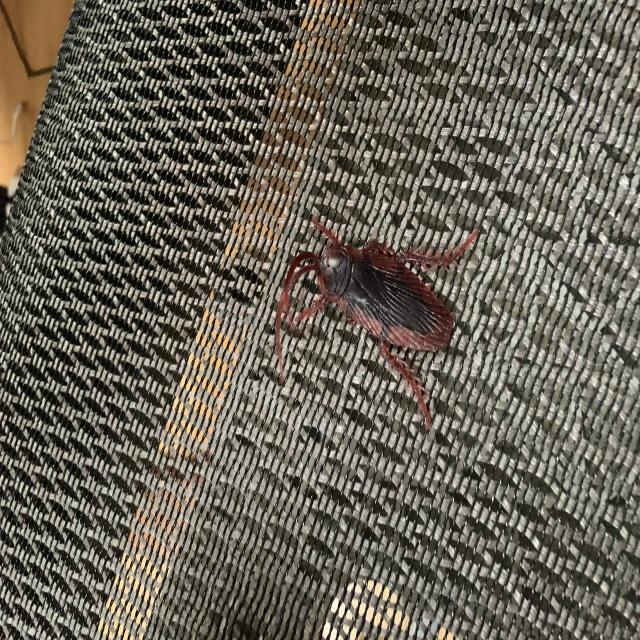Cockroach: (261, 217, 497, 444)
